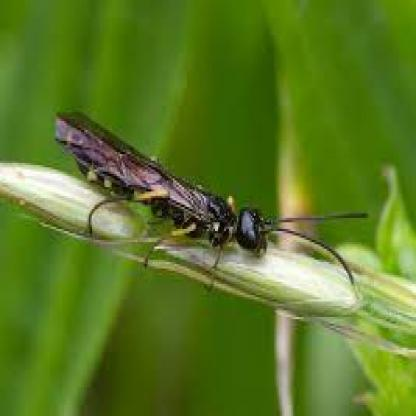sawfly: (48, 101, 368, 293)
